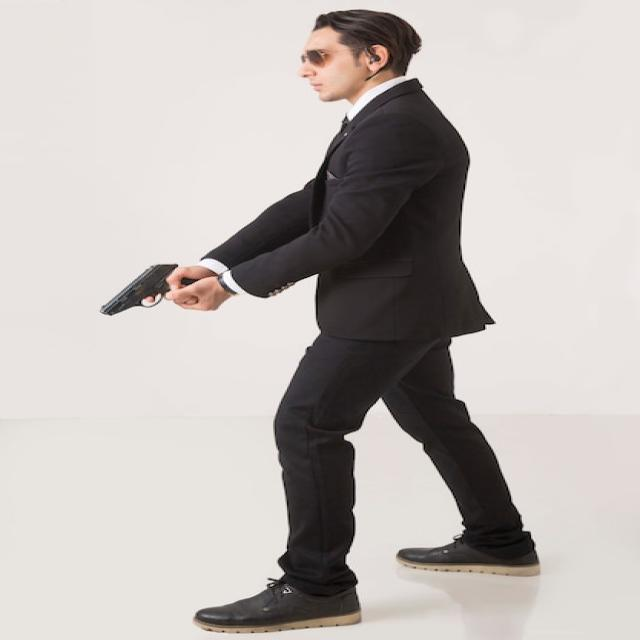Person: (167, 10, 537, 634)
